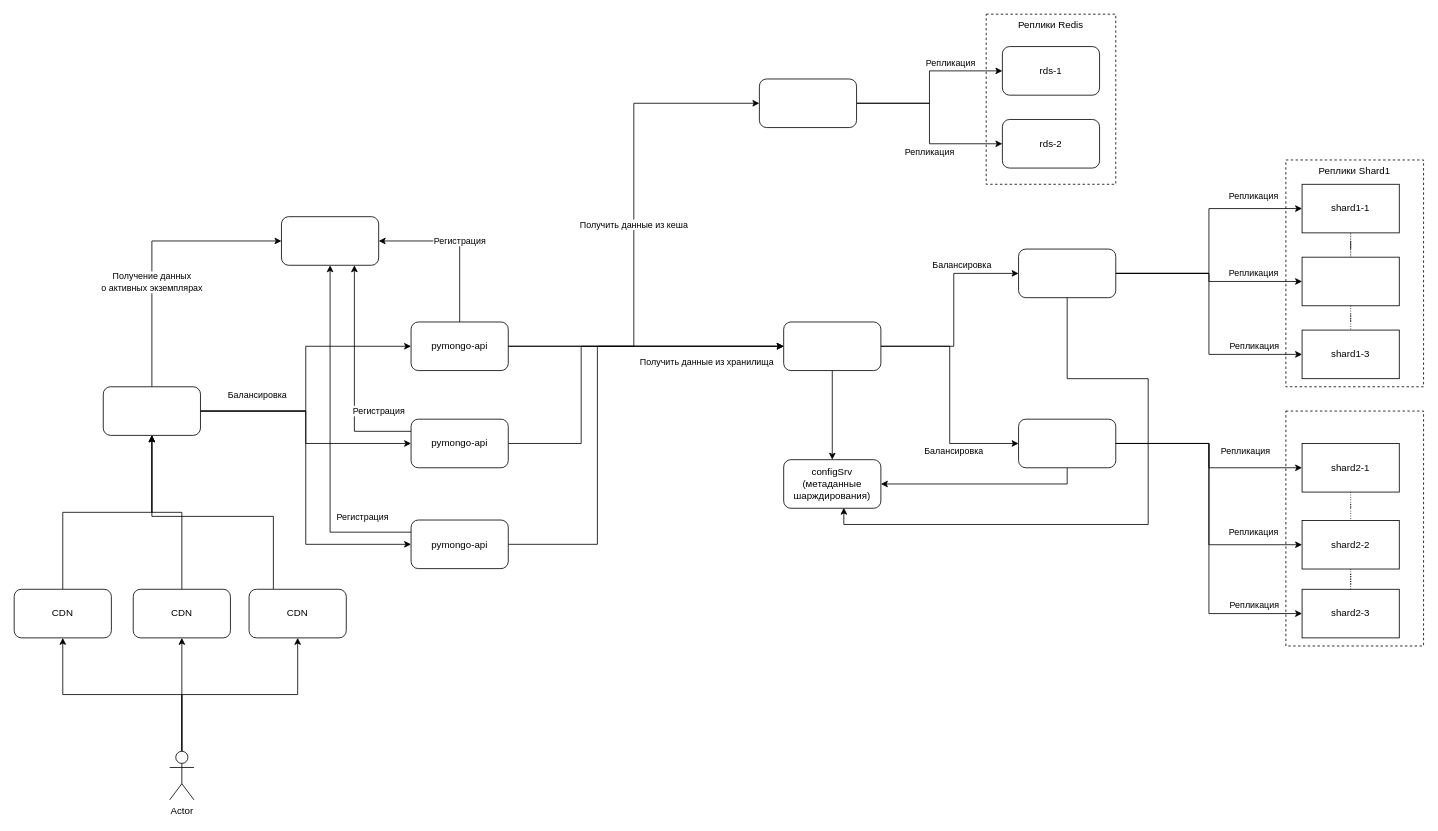
The diagram is 1438 pixels wide and 831 high, and some of its shapes have lost their labels. The box of each missing label's shape, as (x1, y1, x2, y2) in pixels:
Api Gateway: (102, 386, 200, 435)
consul Service Discovery: (281, 216, 379, 265)
mongo router: (783, 321, 881, 371)
redis master: (759, 78, 857, 128)
shard1: (1018, 248, 1116, 298)
shard1-2: (1301, 256, 1399, 306)
shard2: (1018, 418, 1116, 468)
Реплики Shard2: (1285, 410, 1424, 646)
